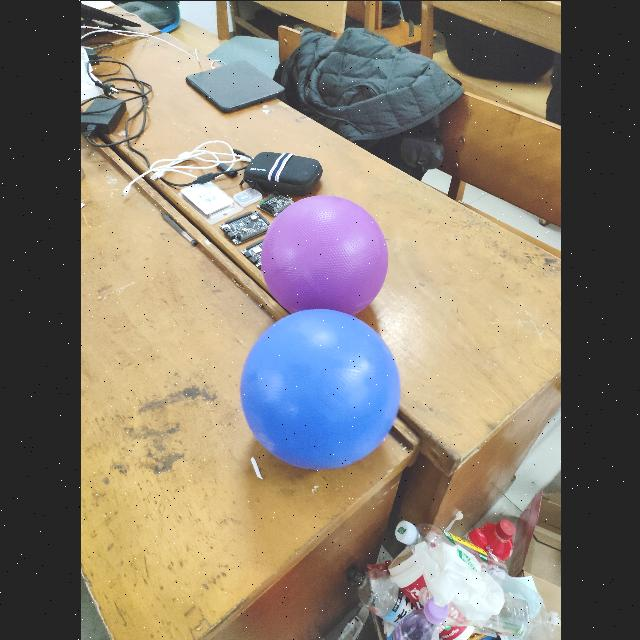B: (238, 306, 404, 468)
P: (260, 190, 390, 314)
